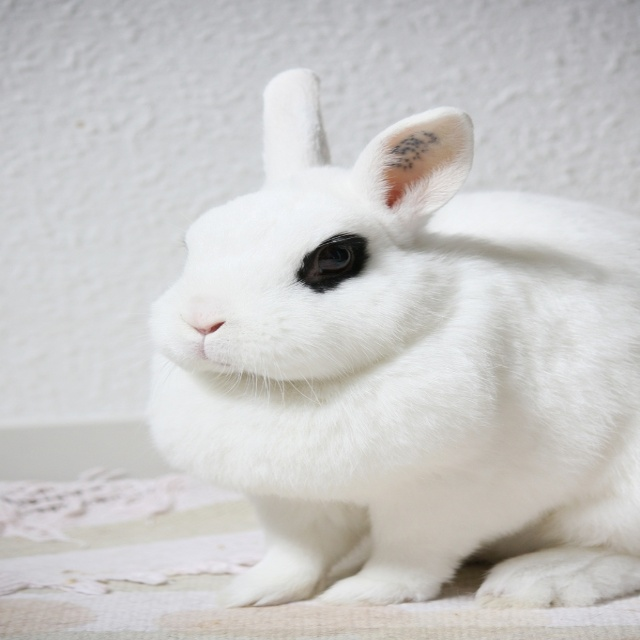Rabbit: (135, 66, 639, 609)
